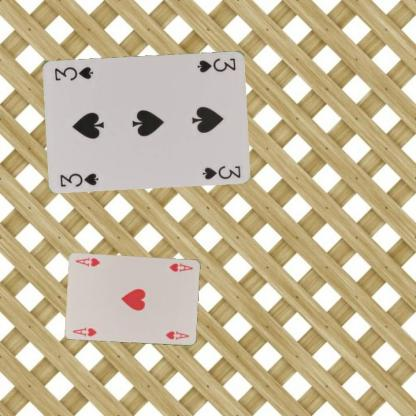3s: (195, 55, 237, 73), (58, 170, 100, 188)
Ah: (167, 260, 194, 273), (70, 325, 98, 337)
